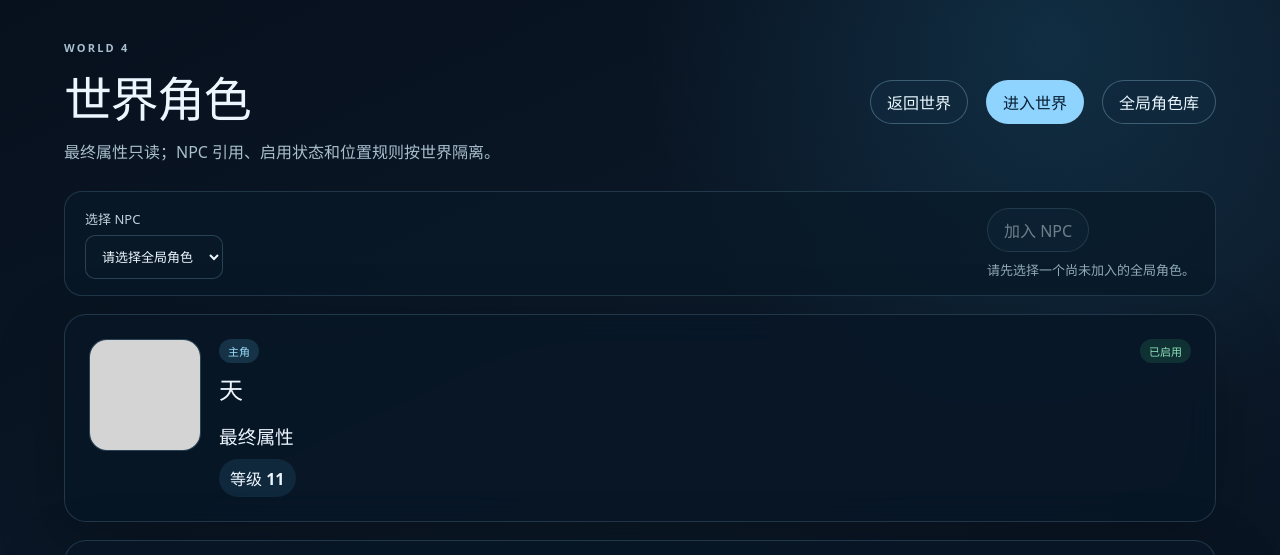
Test: WorldRolesPage › shows safe backend conflict detail with a reload action
Select "安可儿" in the dropdown labelled "选择 NPC" at (154, 256), box [85,234,223,278]
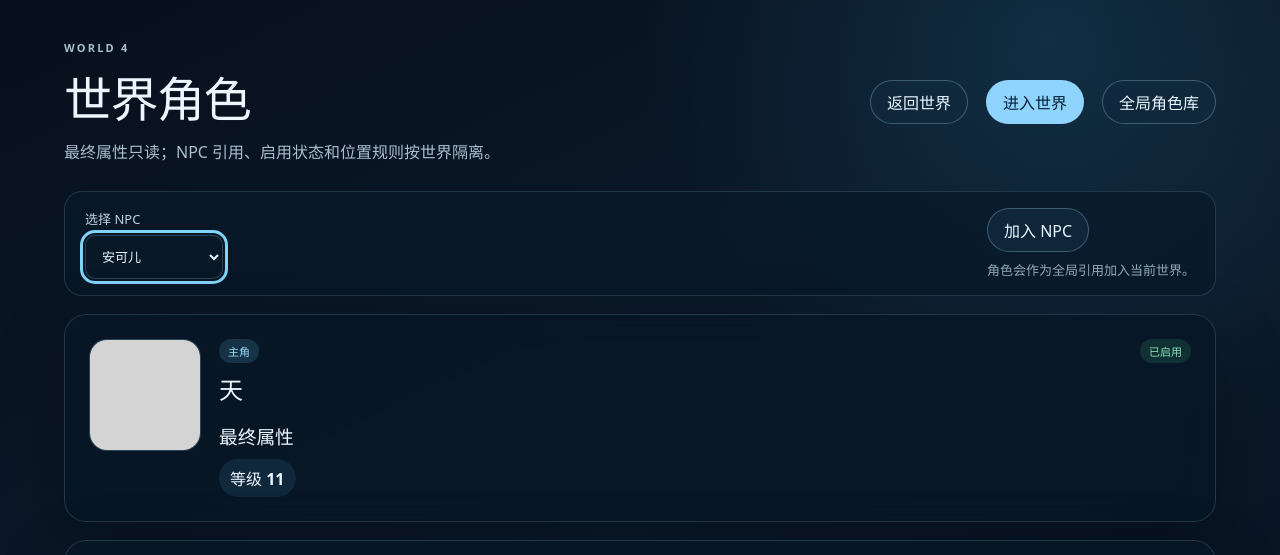
Click the button "加入 NPC" at (1038, 230), box [987,208,1089,252]
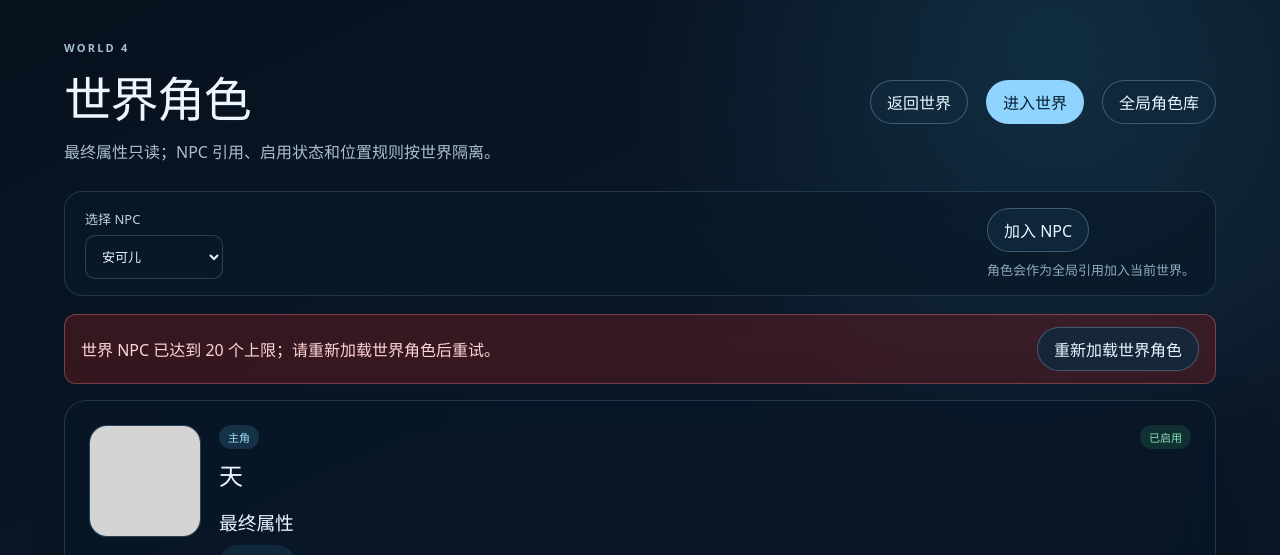
expect the message shows "世界 NPC 已达到 20 个上限": met, box [81,339,500,361]
expect the button "重新加载世界角色" is shown: met, box [1037,327,1199,371]
